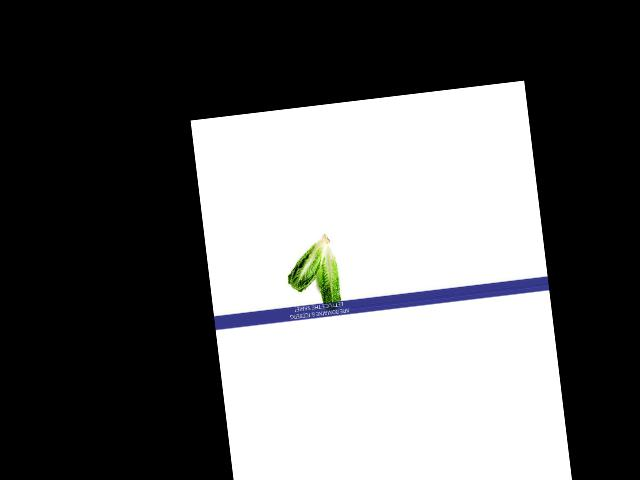lettuce: (284, 226, 335, 296)
